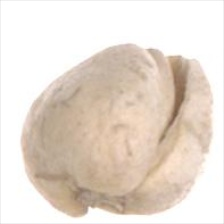L3: (133, 38, 192, 126)
L4: (20, 42, 215, 217)
